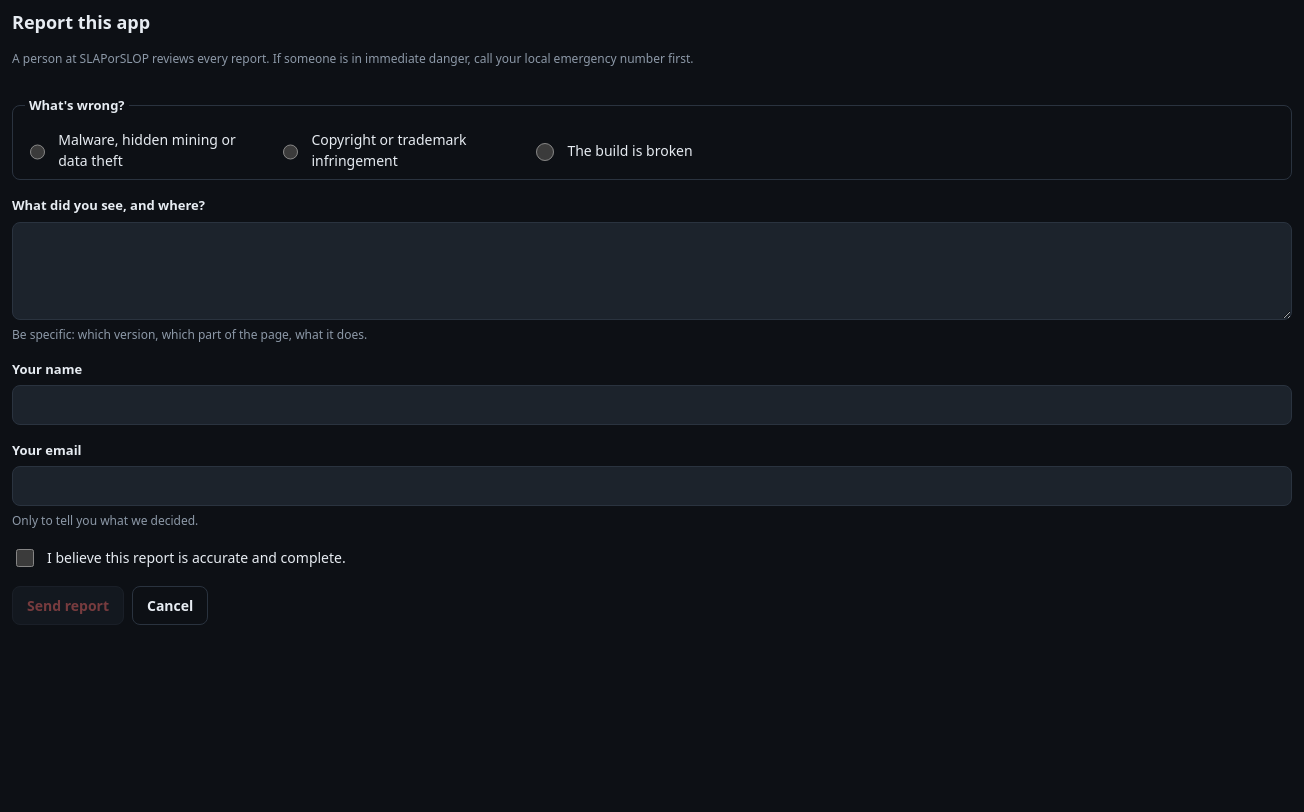
Test: ReportForm › asks a signed-out reporter who they are, and acknowledges with a reference
Click the radio button labelled "Malware, hidden mining or data theft". click: (38, 152)
box: [30,143,45,161]
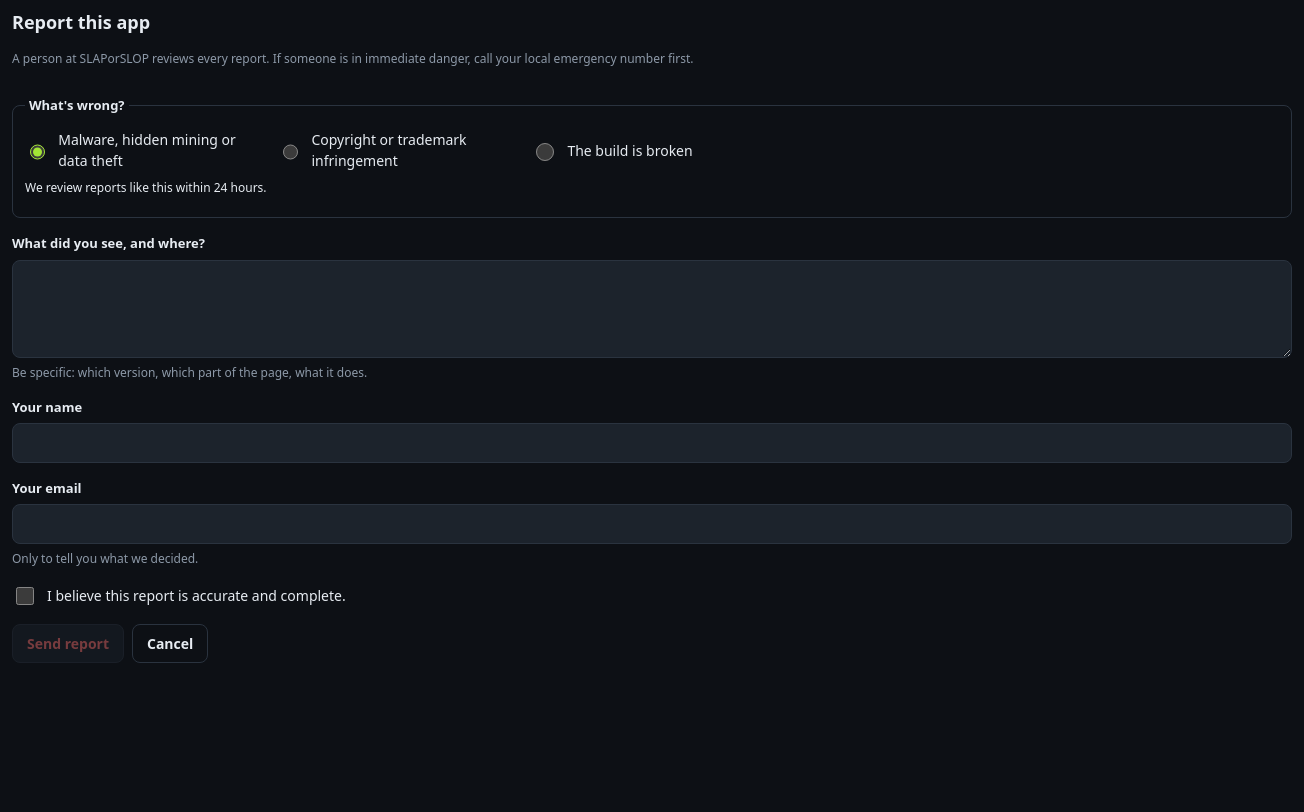
Expected: the text "We review reports like this within 24 hours." is shown, [25,179,267,196]
Type "It mines crypto." into the text box labelled "What did you see". click: (652, 309)
box: [12,260,1292,358]
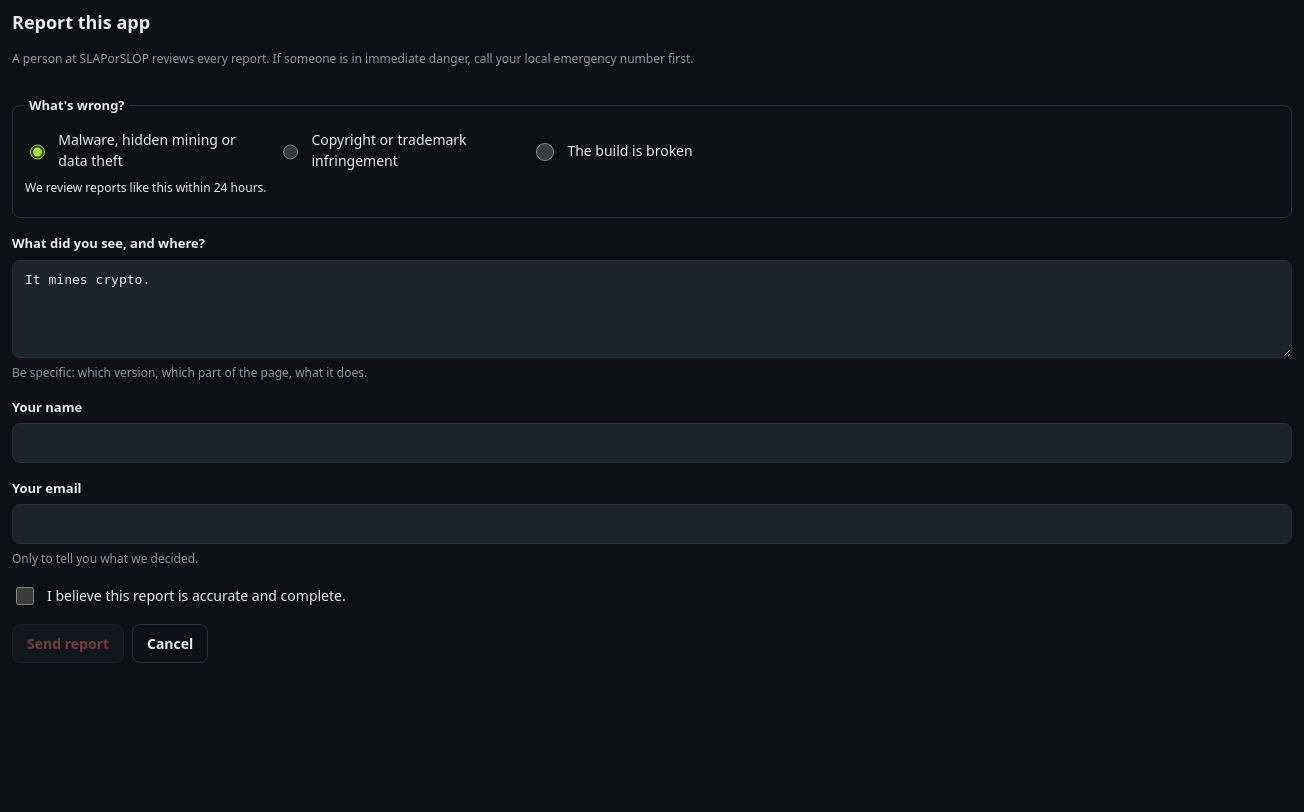
Type "Sam" into the field labelled "Your name". click: (652, 443)
box: [12,423,1292,463]
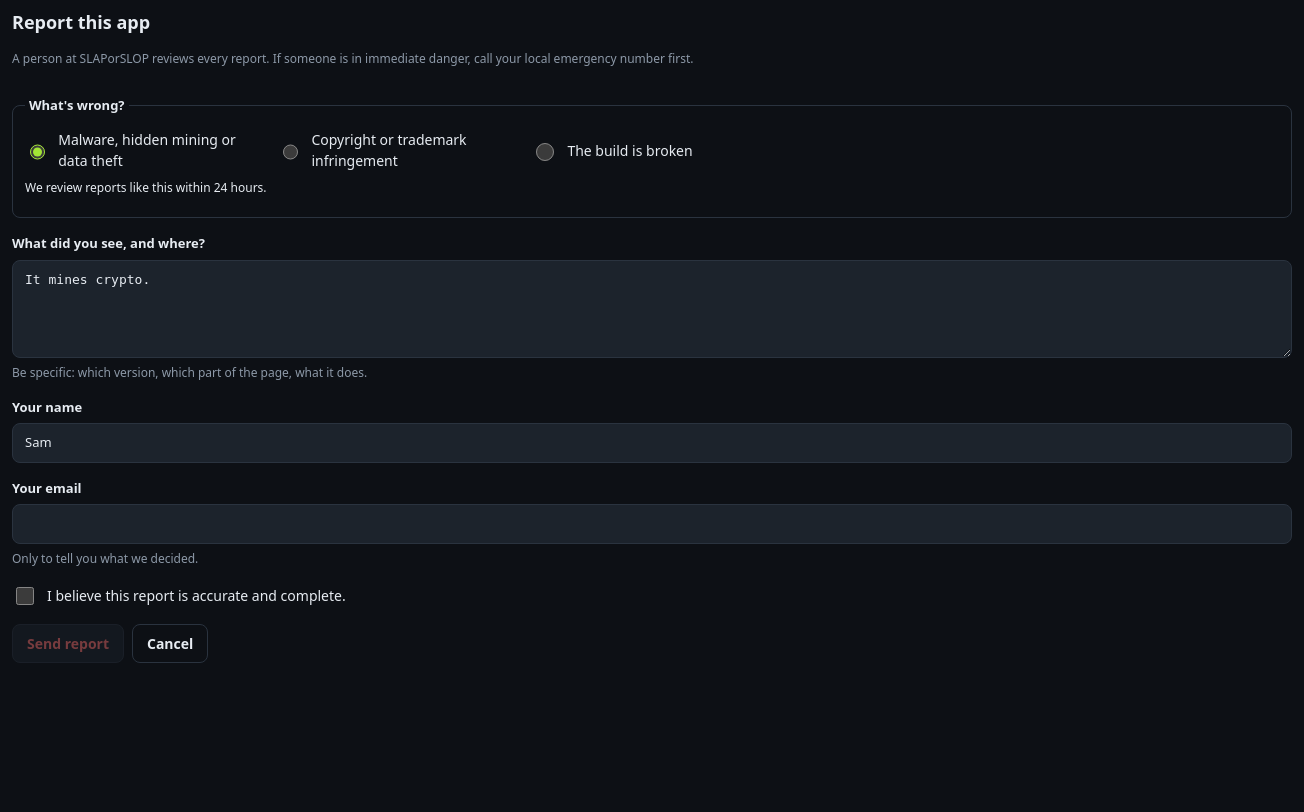
Type "sam@example.com" into the field labelled "Your email Only to tell you what we decided.". click: (652, 524)
box: [12,504,1292,544]
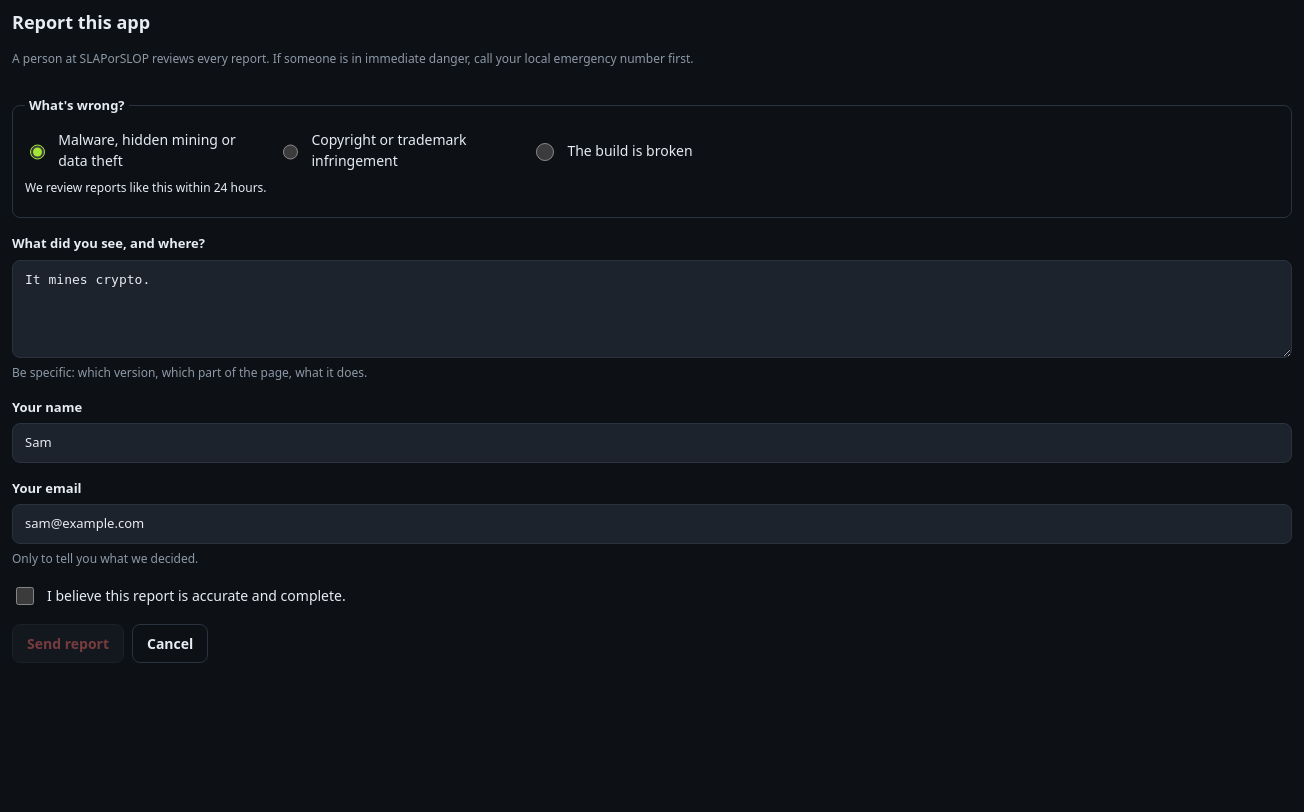
Expected: the button "Send report" is disabled, [12,624,124,663]
Click the checkbox labelled "I believe this report is accurate and complete.". click: (25, 596)
box: [16,587,34,605]
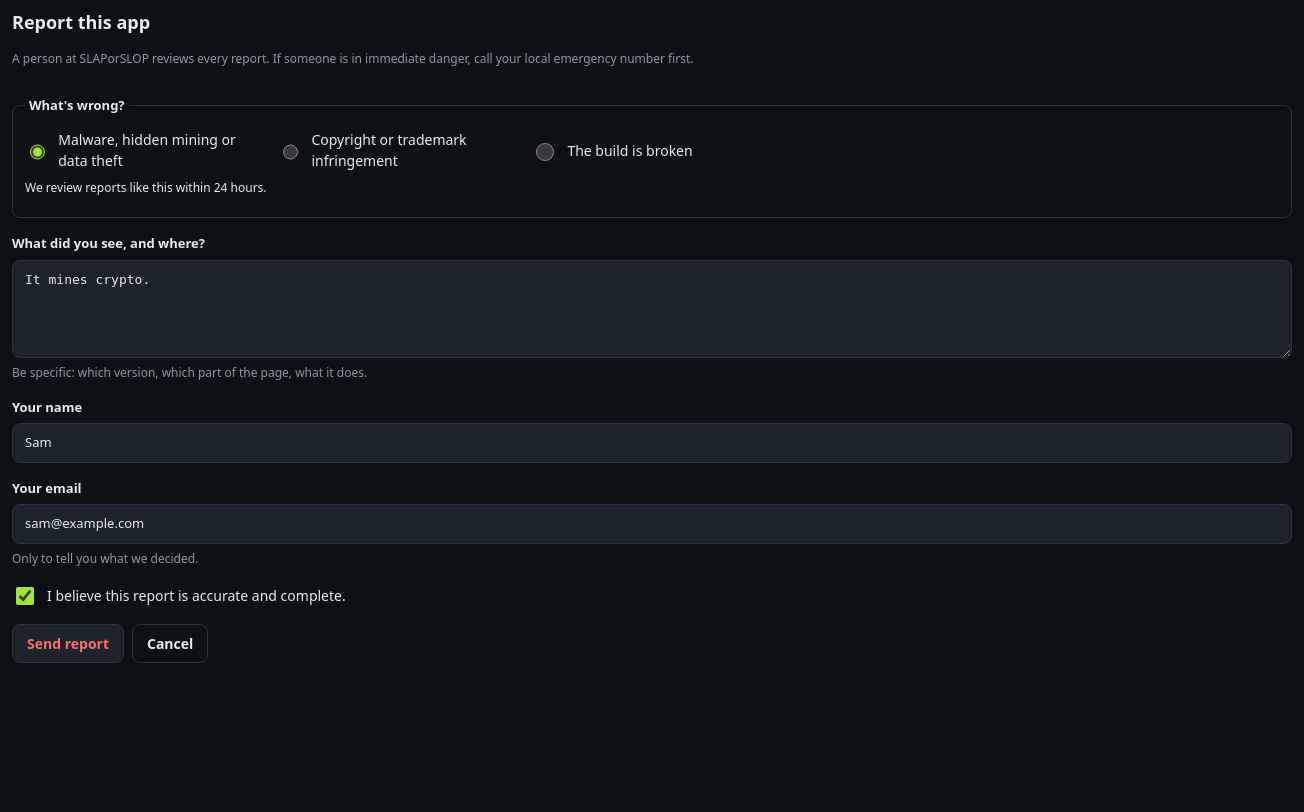
Expected: the button "Send report" is enabled
Click the button "Send report". click: (68, 643)
box: [12,624,124,663]
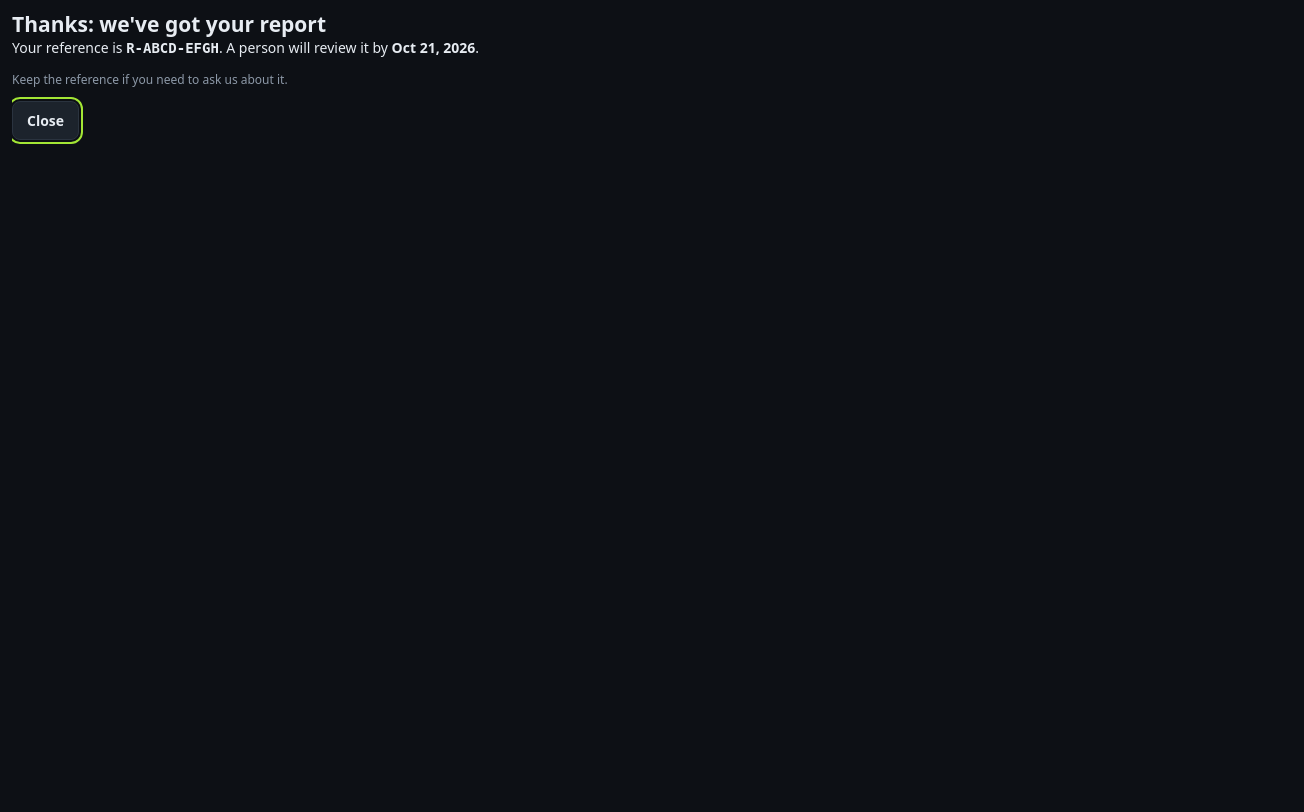
Expected: the text "R-ABCD-EFGH" is shown, [126,40,219,56]
